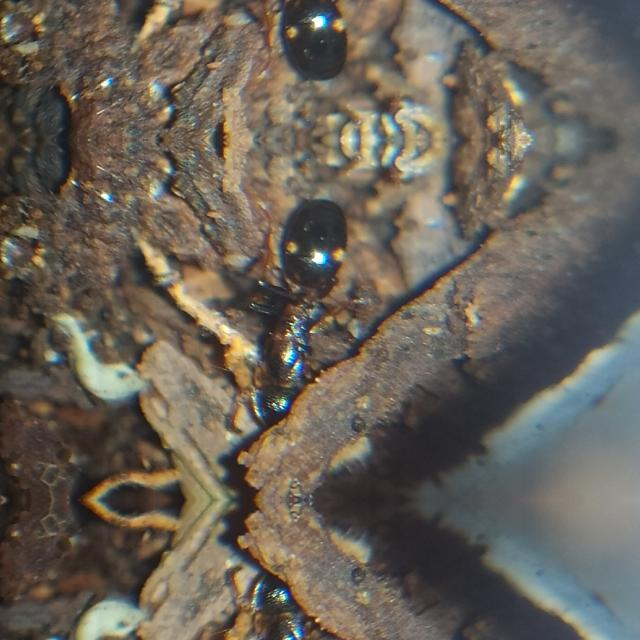Dolichoderus: (225, 164, 372, 452), (225, 0, 372, 116), (225, 546, 372, 640)
